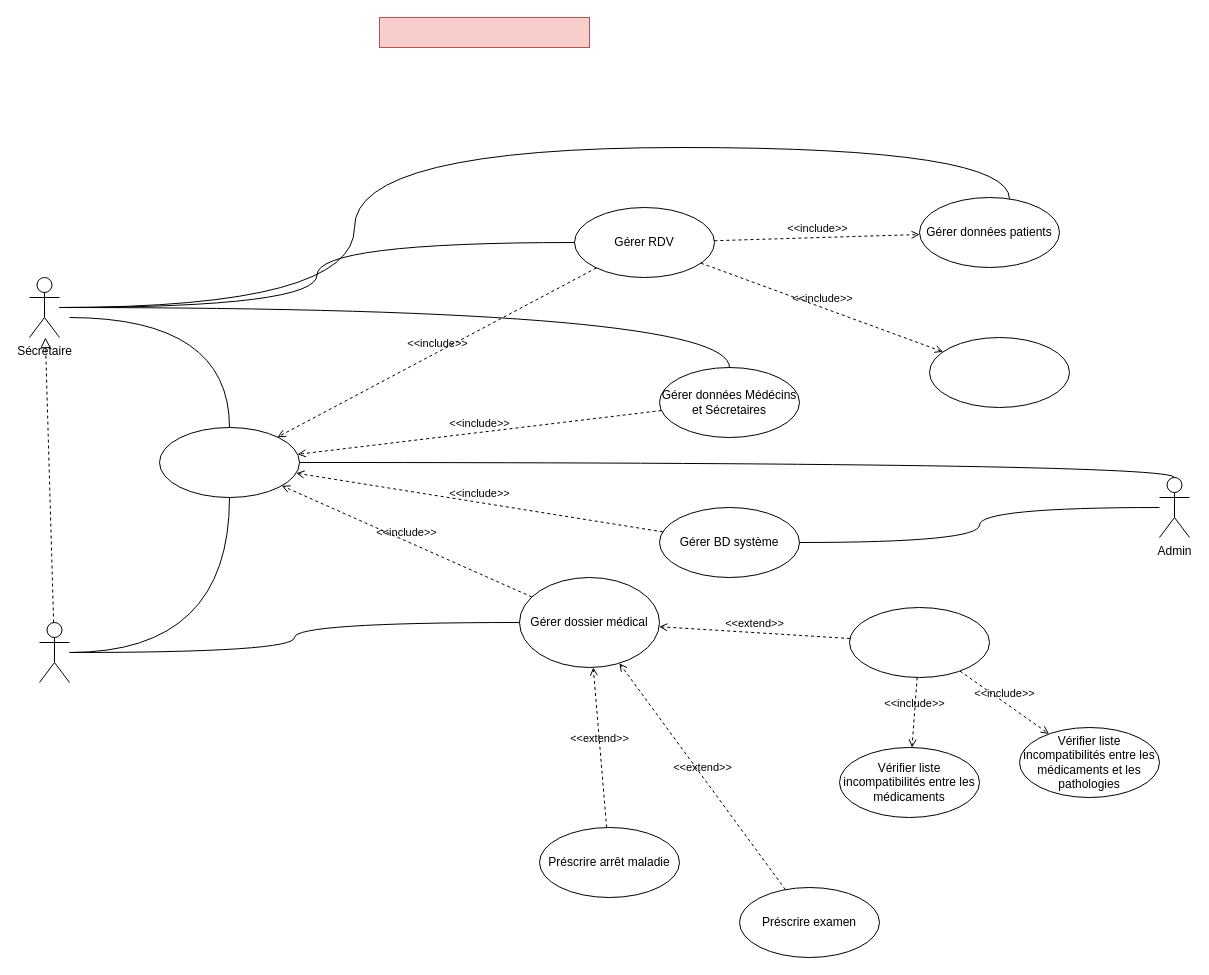
This 1209x975 diagram has some shape labels left out. Here are the shapes that lost their labels. From the top down, the box of each, then its label:
(378, 16, 590, 48): Le médécin peut faire les tâches de la secrétaire si elle est absente
(928, 336, 1070, 408): Consulter disponibilités Médécin
(158, 426, 300, 498): Se connecter
(38, 622, 70, 682): Médécin
(848, 606, 990, 678): Préscrire médicament
